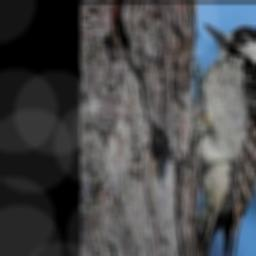Woodpecker: (170, 23, 256, 256)
